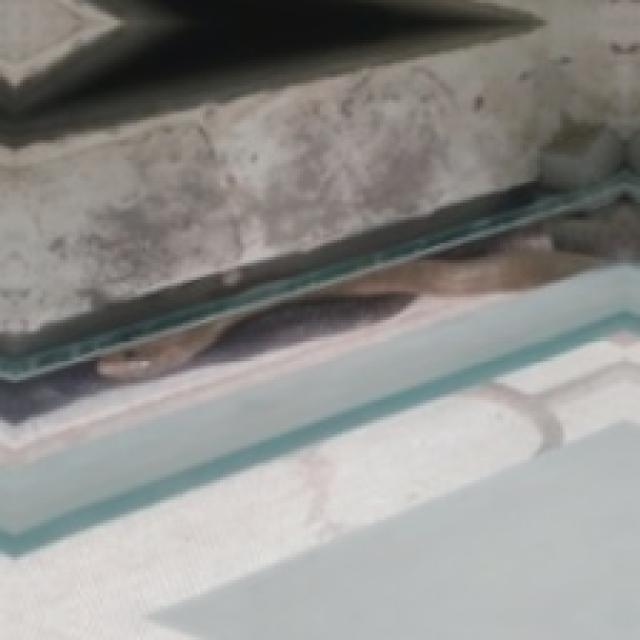reddish rat snake: (328, 225, 596, 297), (95, 318, 241, 381)
